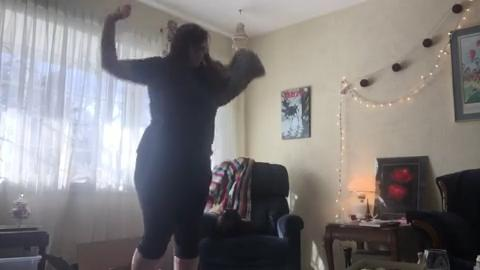blanket: (201, 157, 252, 222)
light: (332, 1, 475, 224), (348, 175, 377, 218)
person: (100, 4, 267, 269)
picture: (375, 155, 423, 218), (449, 24, 479, 122), (280, 86, 311, 141)
sofa_couch: (199, 162, 303, 269), (405, 168, 479, 269)
table_desk: (322, 223, 414, 268), (1, 223, 49, 269)
